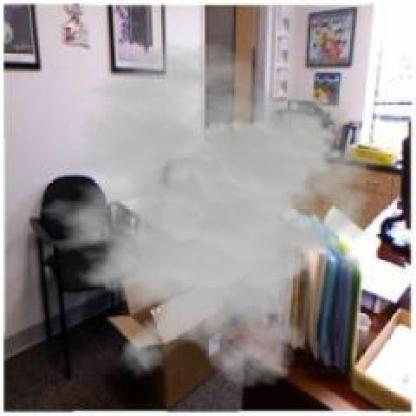Smoke: (23, 41, 383, 391)
